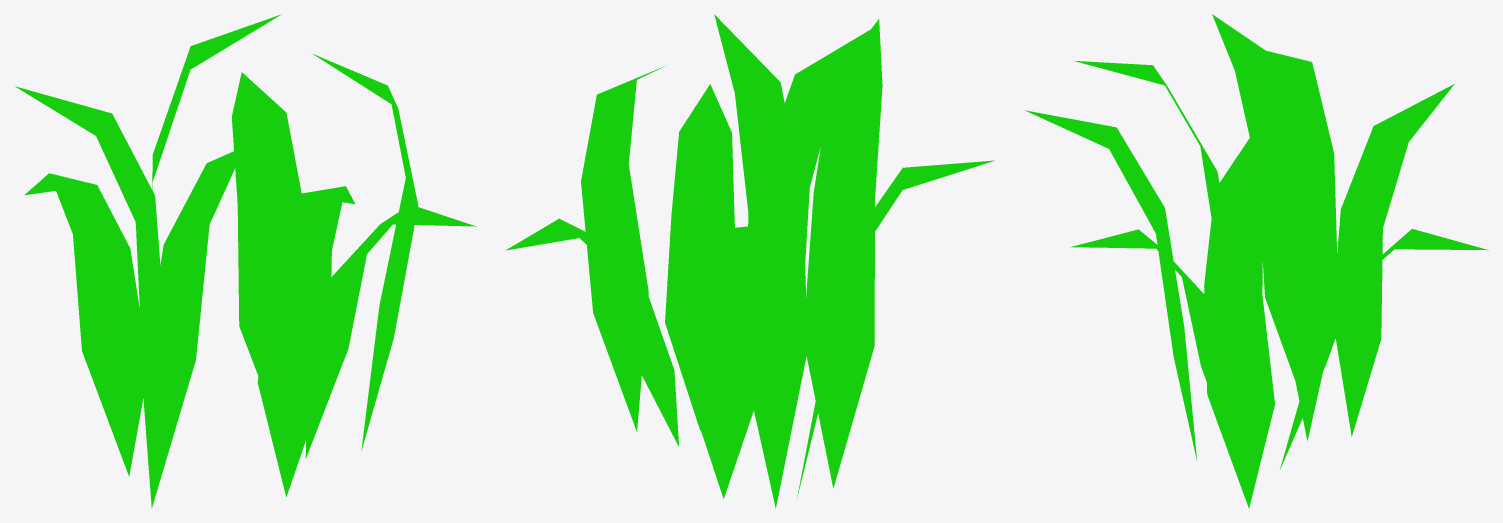
Rendered from grass.glb.
3 renders of one model, left to right at view 1: azimuth 30°, elevation 25°; view 2: azimuth 150°, elevation 25°; view 3: azimuth 270°, elevation 25°, orthographic. The views are drawn at different scales.
Visible parts, largest first — view 1: grass_blades; view 2: grass_blades; view 3: grass_blades.
Boxes of the visible parts, x1,y1,x2,y2 form: grass_blades: [15, 14, 476, 508]; grass_blades: [505, 14, 994, 508]; grass_blades: [1025, 14, 1488, 508].
Bounding box in the file's own units: 0.7985 × 0.8816 × 0.8462.
